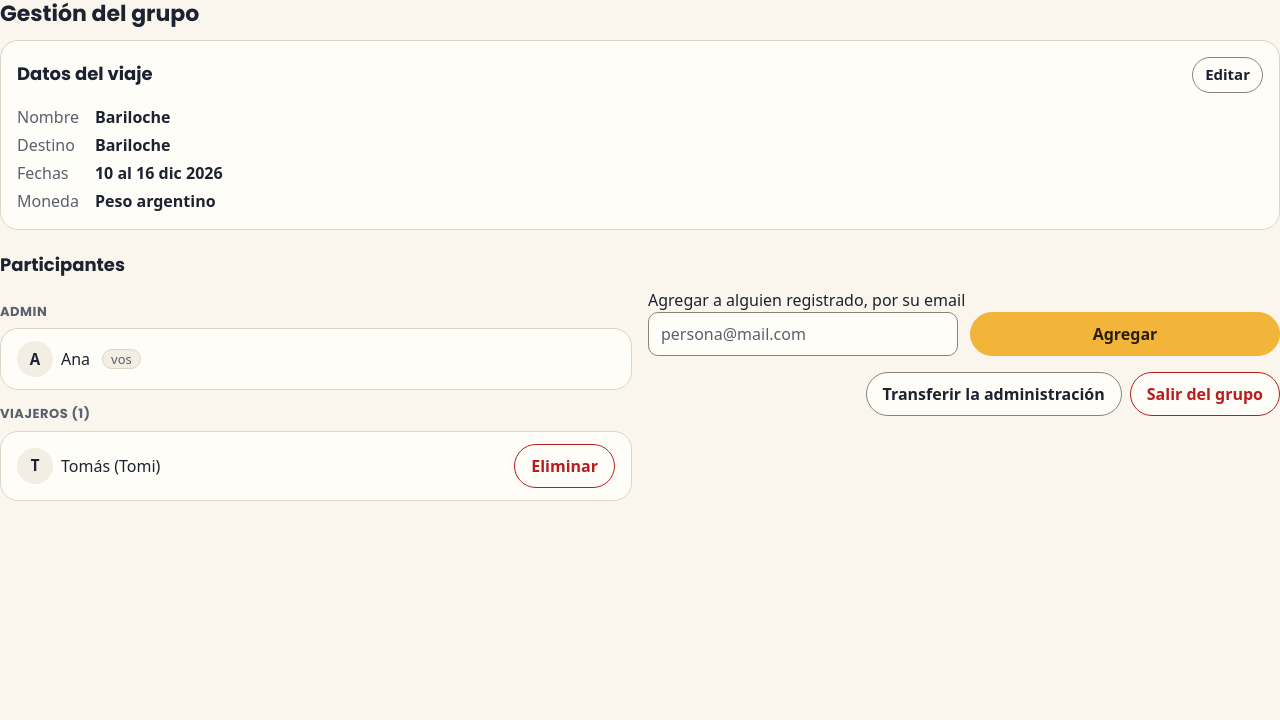
Scenario: ParticipantesVista › RN-T3: el Admin no puede confirmar la salida sin elegir sucesor
Click the button "Salir del grupo". click: (1205, 394)
box: [1130,372,1279,416]
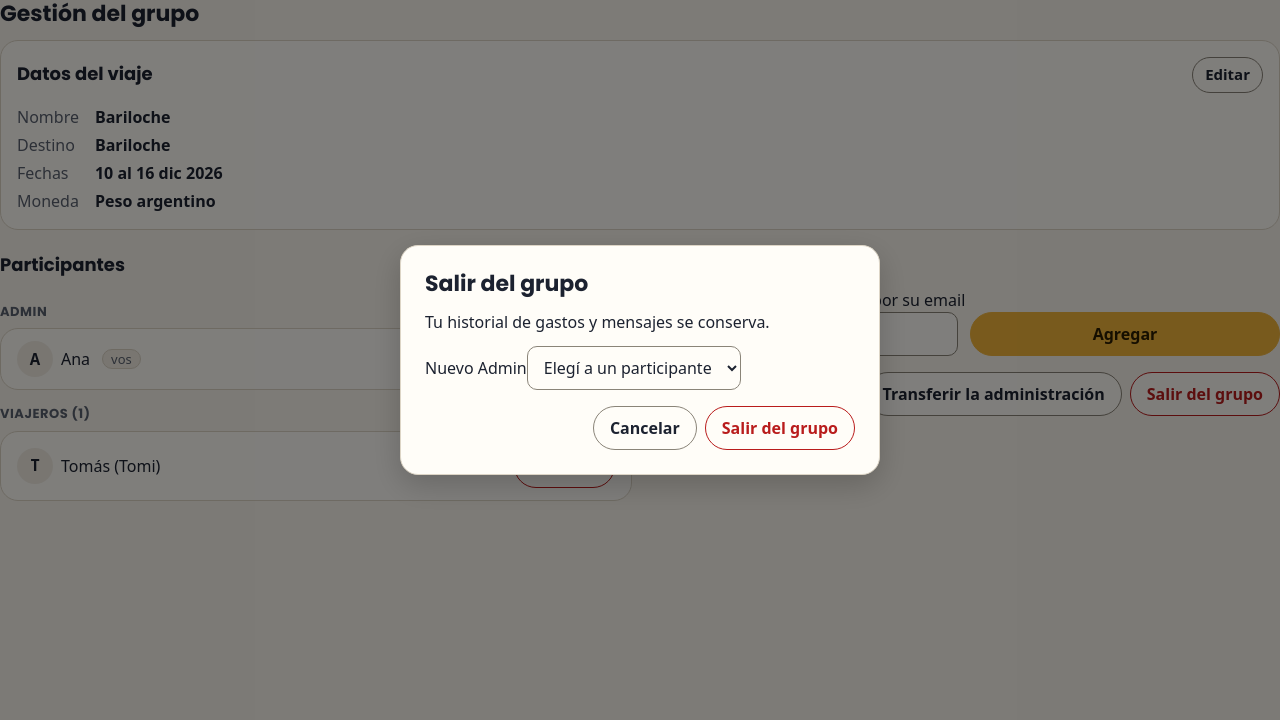
Click the button "Salir del grupo". click: (780, 428)
box: [705,406,855,450]
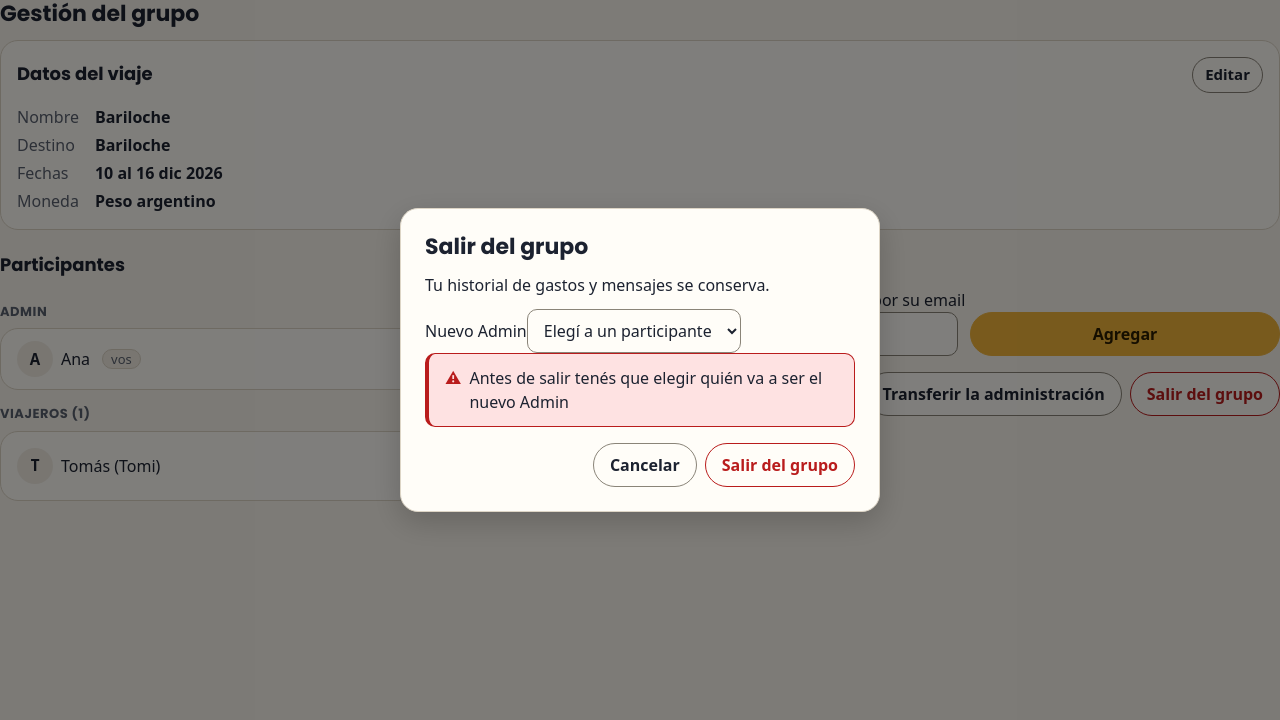
Expected: the text "tenés que elegir quién va a ser el nuevo Admin" is shown, [469,367,822,413]
